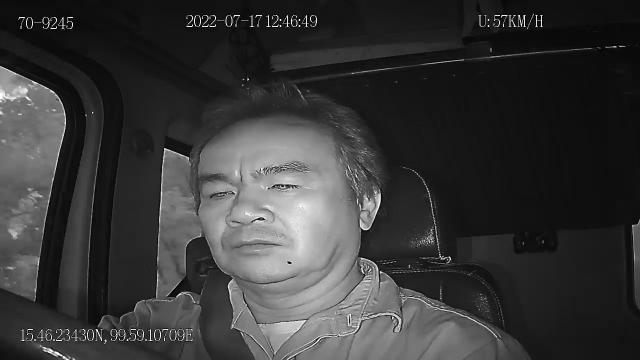SafeDriving: (260, 171, 310, 198), (198, 178, 240, 207)
Seatbelt: (198, 268, 256, 360)
